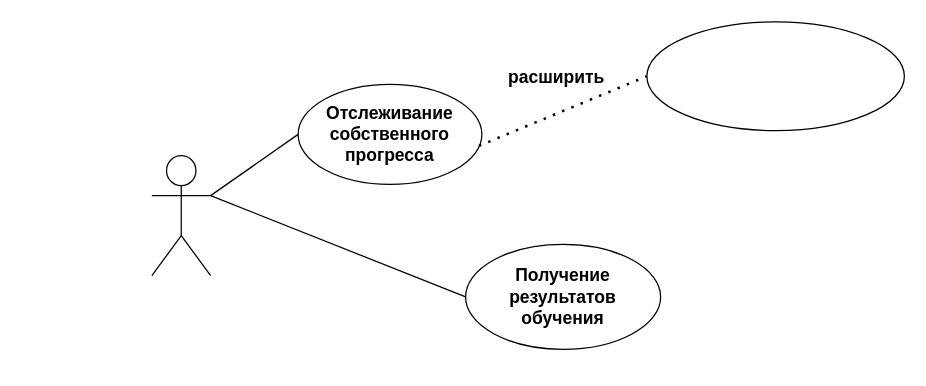
This 926x386 diagram has some shape labels left out. The box of each missing label's shape, as (x1, y1, x2, y2) in pixels:
Предложение дополнительных ресурсов и рекомендаций: (646, 21, 904, 131)
Сотрудники, студенты, обучающиеся (в зависимости от сегмента): (151, 154, 211, 276)
